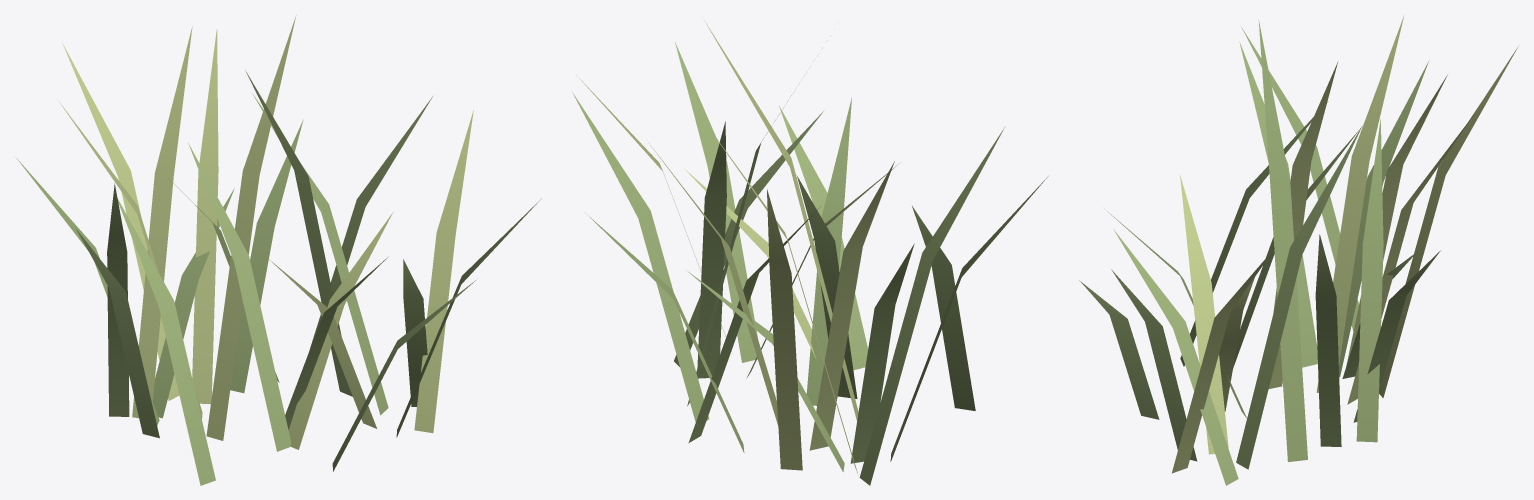
The model's file is lake_reeds_0.glb.
3 renders of one model, left to right at view 1: azimuth 30°, elevation 25°; view 2: azimuth 150°, elevation 25°; view 3: azimuth 270°, elevation 25°, orthographic. The views are drawn at different scales.
Parts seen in each view (by area): view 1: lake_reeds_0_LakeReed, lake_reeds_0_LakeWillowLight; view 2: lake_reeds_0_LakeReed, lake_reeds_0_LakeWillowLight; view 3: lake_reeds_0_LakeReed, lake_reeds_0_LakeWillowLight.
Part boxes in pixels (<box>): lake_reeds_0_LakeReed: <box>16,71,541,485</box>; lake_reeds_0_LakeWillowLight: <box>59,15,473,449</box>; lake_reeds_0_LakeReed: <box>572,42,1048,485</box>; lake_reeds_0_LakeWillowLight: <box>576,20,899,474</box>; lake_reeds_0_LakeReed: <box>1079,20,1440,485</box>; lake_reeds_0_LakeWillowLight: <box>1171,15,1518,473</box>.
Bounding box in the file's own units: 1.19 × 1.02 × 1.06.
